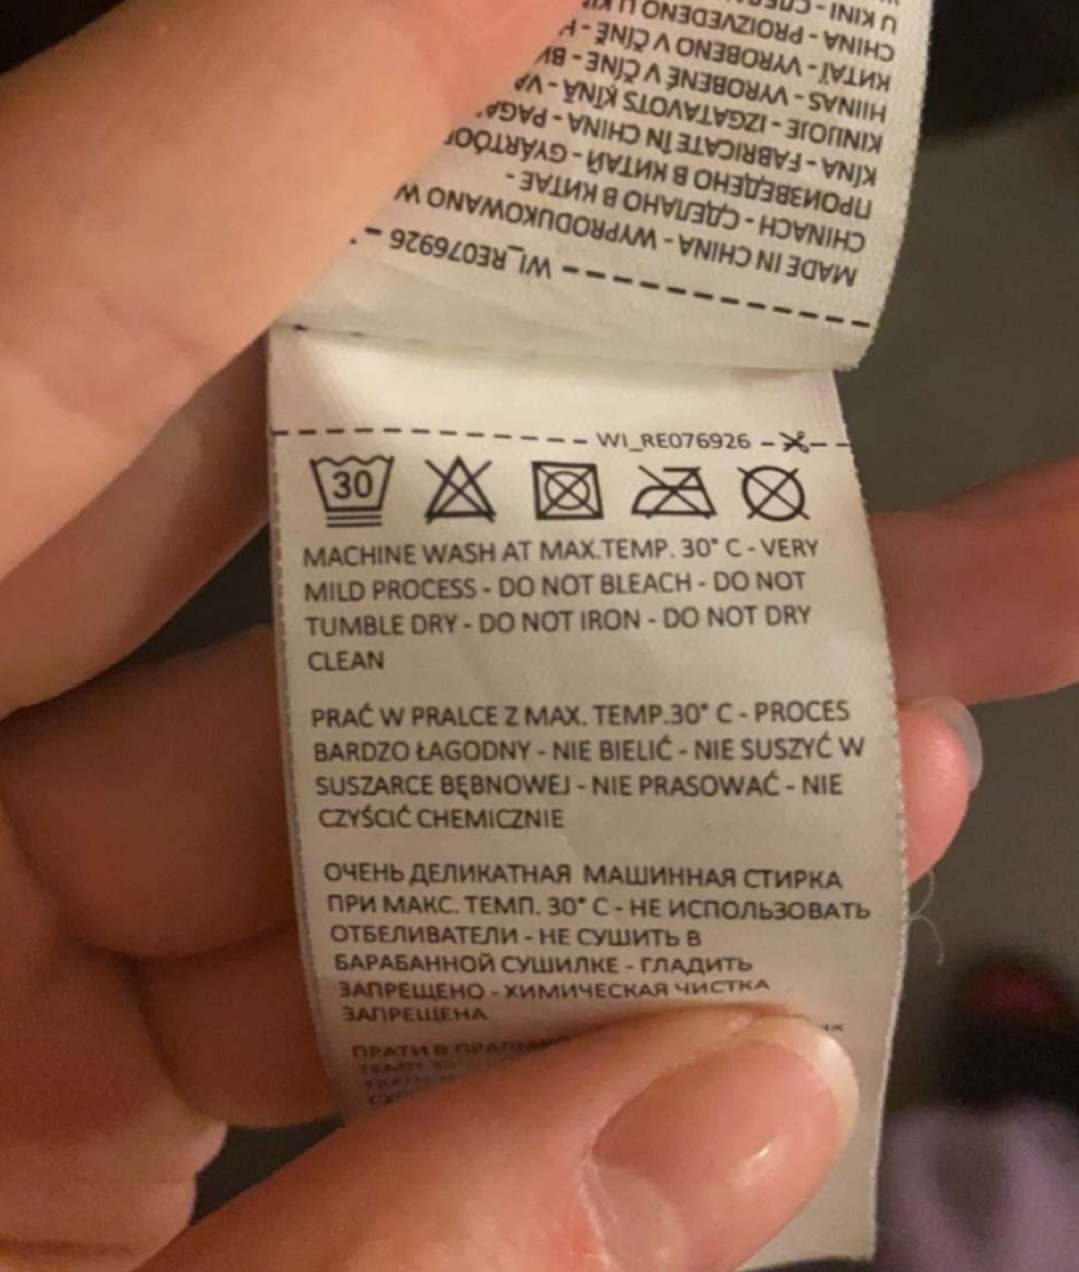do not bleach: (409, 456, 510, 534)
do not dry clean: (732, 457, 838, 531)
do not iron: (629, 460, 734, 535)
do not tumble dry: (526, 452, 616, 526)
wash at or below 30: (297, 449, 410, 540)
